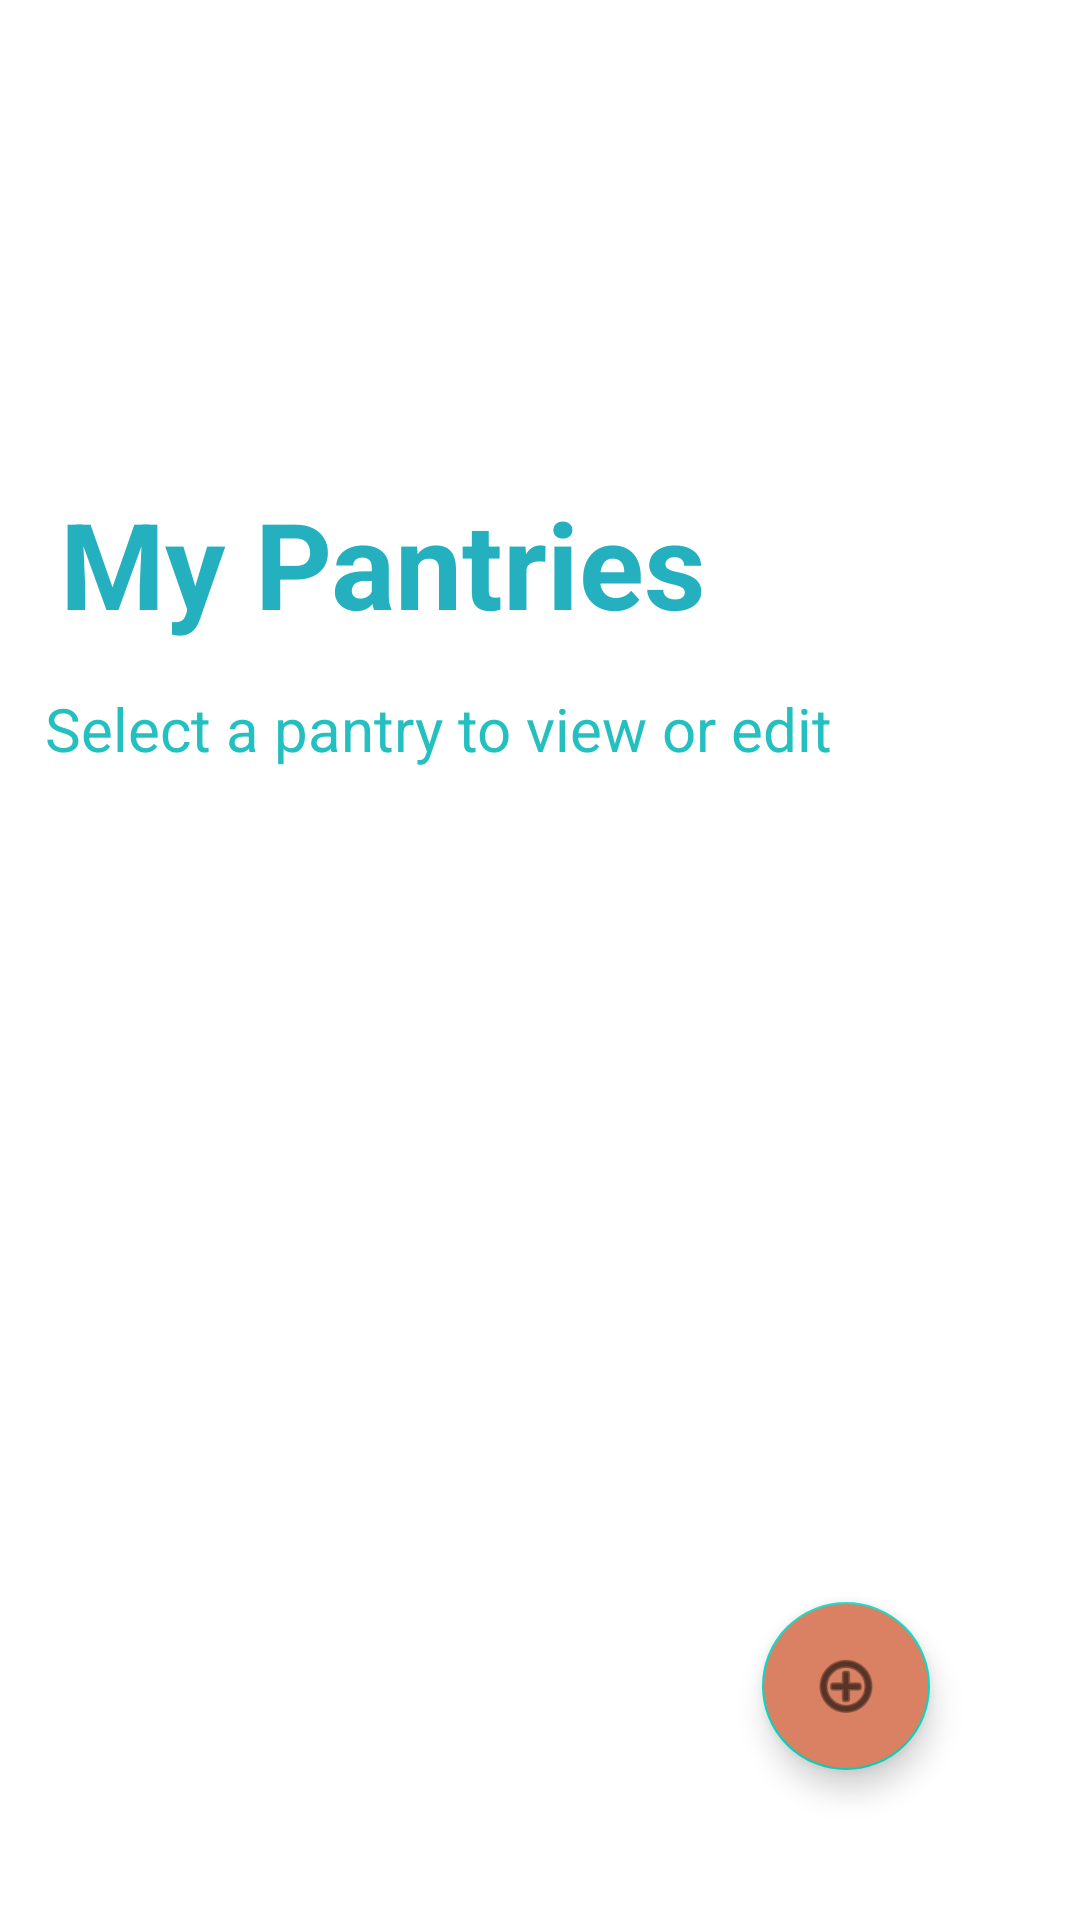

Locate icon controls on the screen. Image size 1080*1920, boxes as (x1, y1, x2, y2).
add: (762, 1602, 930, 1770)
